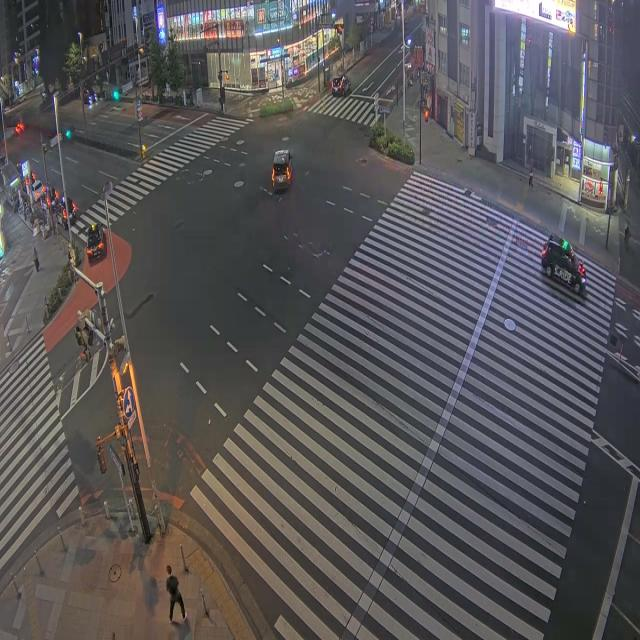car: (541, 234, 586, 295), (272, 150, 291, 191), (86, 224, 106, 261), (332, 74, 350, 96), (56, 197, 66, 226), (32, 180, 45, 201), (83, 88, 97, 105), (14, 122, 24, 135)
